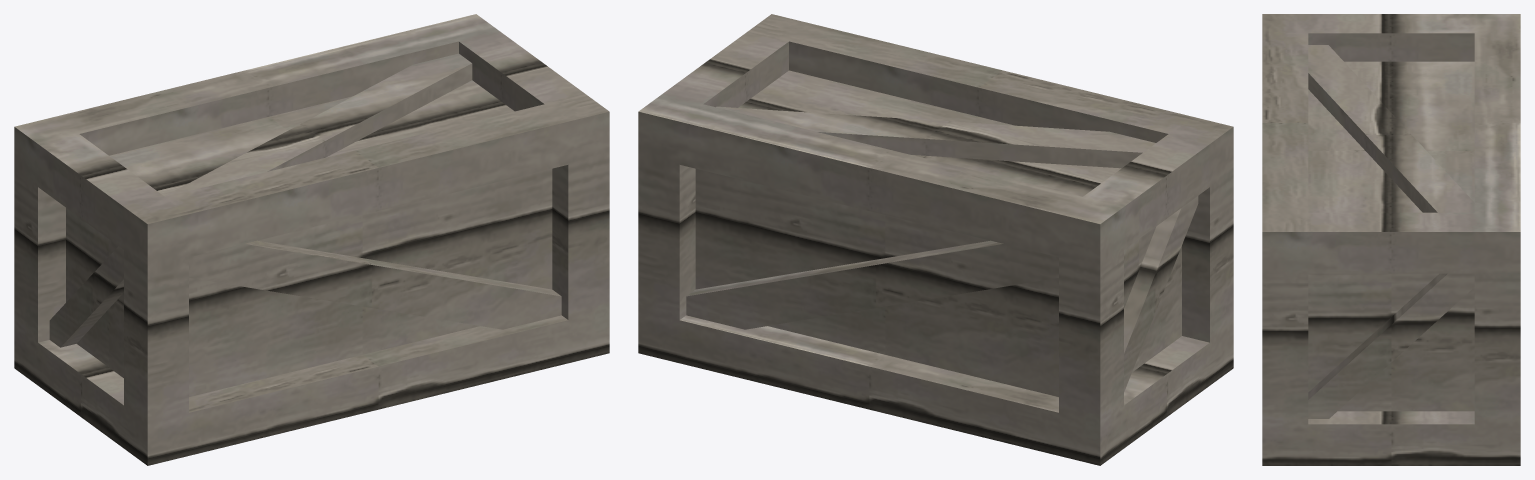
3 views of the same model, side by side, from view 1: azimuth 30°, elevation 25°; view 2: azimuth 150°, elevation 25°; view 3: azimuth 270°, elevation 25° (orthographic). The views are drawn at different scales.
Visible parts, largest first — view 1: mergedBlocks; view 2: mergedBlocks; view 3: mergedBlocks.
Part boxes in pixels (x1,y1,x2,y2): mergedBlocks: (14,14,609,465); mergedBlocks: (638,14,1233,465); mergedBlocks: (1262,14,1520,465).
Bounding box in the file's own units: 6 × 3 × 3.
2 materials, 2 textured.
